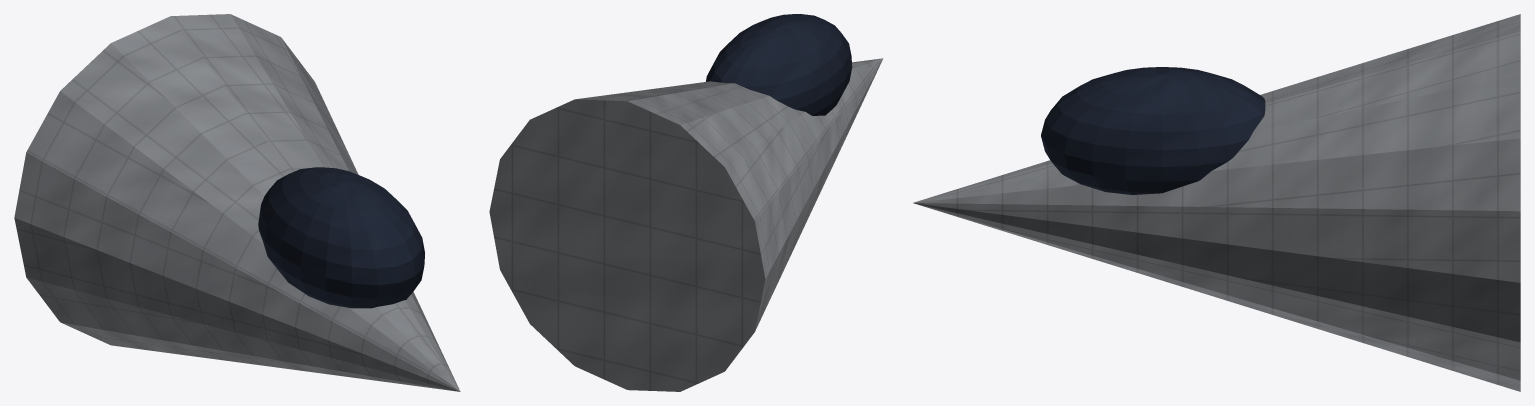
Rendered from scout.glb.
The picture shows the model from 3 angles, left to right: view 1: azimuth 30°, elevation 25°; view 2: azimuth 150°, elevation 25°; view 3: azimuth 270°, elevation 25°; orthographic projection. The views are drawn at different scales.
Visible parts, largest first — view 1: scout; view 2: scout; view 3: scout.
Part boxes in pixels (x1,y1,x2,y2): scout: [14, 14, 460, 391]; scout: [489, 14, 883, 391]; scout: [913, 14, 1520, 391].
Size of the model in its own units: 2.8 by 2.8 by 4.5.
2 materials, 2 textured.
